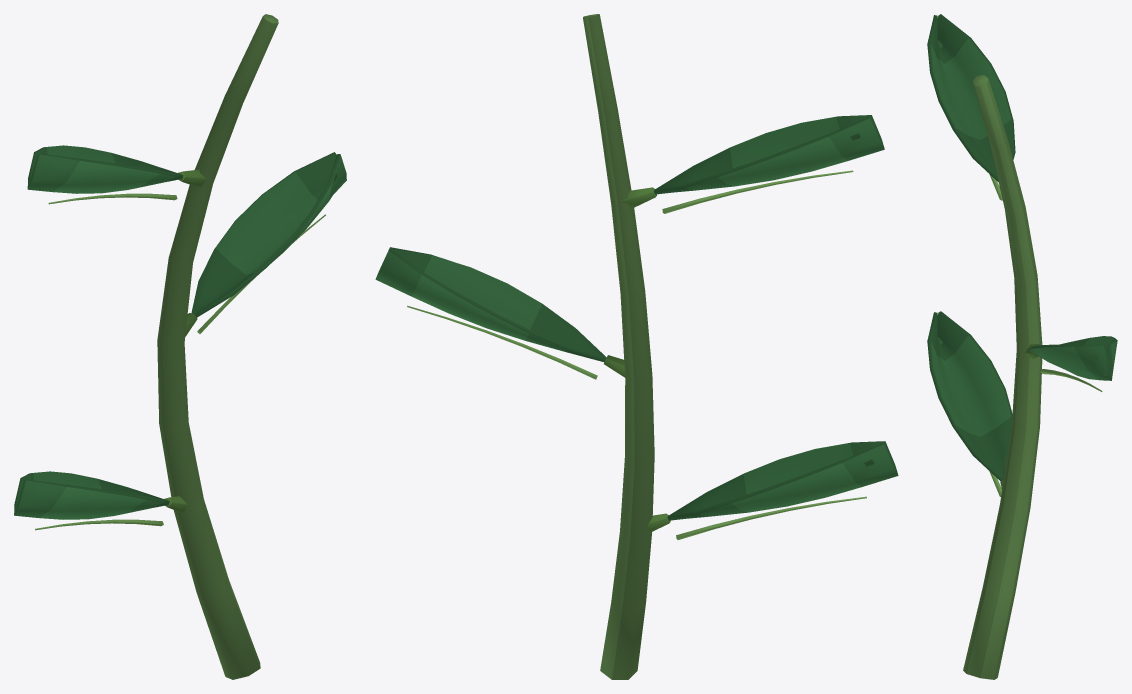
Rendered from garden-rose-leaves-stem-1.glb.
The picture shows the model from 3 angles, left to right: view 1: azimuth 30°, elevation 25°; view 2: azimuth 150°, elevation 25°; view 3: azimuth 270°, elevation 25°; orthographic projection. The views are drawn at different scales.
Parts seen in each view (by area): view 1: rose-leaves-stem-1; view 2: rose-leaves-stem-1; view 3: rose-leaves-stem-1.
Part boxes in pixels (x1,y1,x2,y2): rose-leaves-stem-1: (14, 14, 346, 679); rose-leaves-stem-1: (375, 14, 898, 679); rose-leaves-stem-1: (927, 14, 1117, 679).
Bounding box in the file's own units: 0.1781 × 0.2601 × 0.073.
